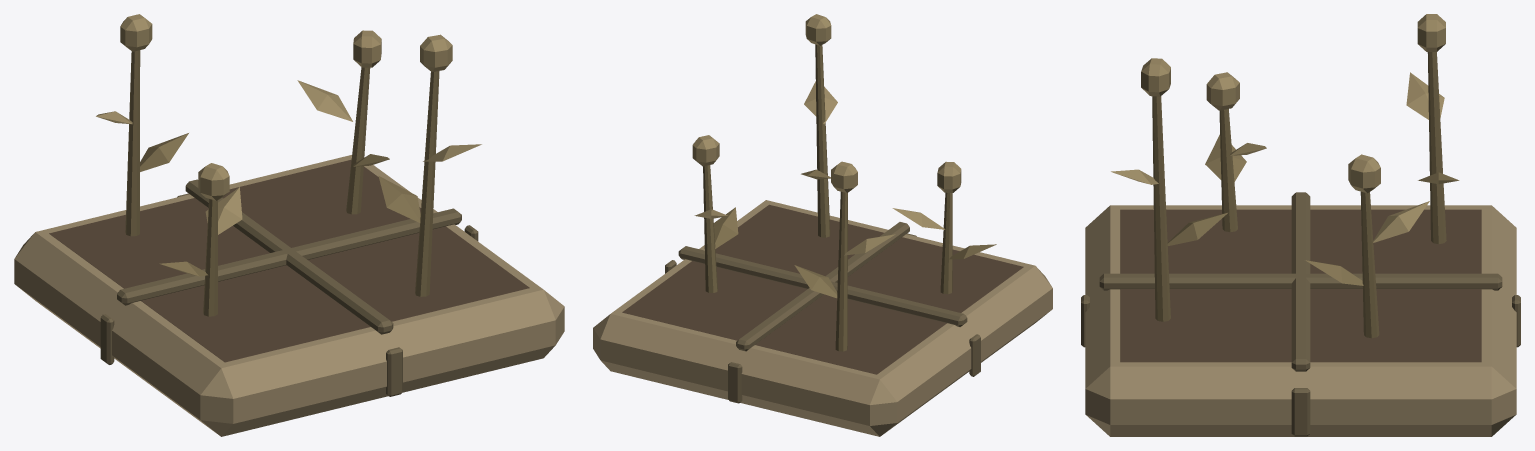
File: flowers_2_packed_autumn.glb
The picture shows the model from 3 angles, left to right: view 1: azimuth 30°, elevation 25°; view 2: azimuth 150°, elevation 25°; view 3: azimuth 270°, elevation 25°; orthographic projection. The views are drawn at different scales.
Visible parts, largest first — view 1: flowers_2_packed_autumn; view 2: flowers_2_packed_autumn; view 3: flowers_2_packed_autumn.
Part boxes in pixels (bbox=[...]): flowers_2_packed_autumn: bbox=[14, 14, 564, 436]; flowers_2_packed_autumn: bbox=[593, 14, 1052, 436]; flowers_2_packed_autumn: bbox=[1081, 14, 1520, 436].
Size of the model in its own units: 1.25 by 1.04 by 1.25.
